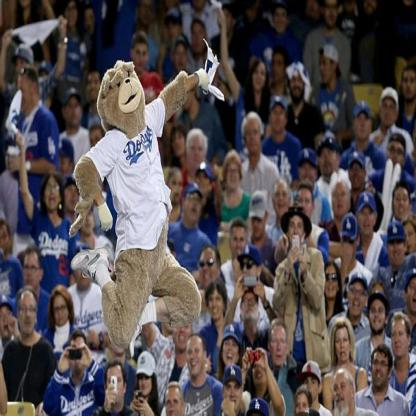face: (332, 377, 351, 416), (270, 327, 287, 366), (372, 353, 389, 390), (224, 378, 242, 412), (20, 298, 36, 336), (187, 340, 203, 377), (333, 183, 350, 217), (108, 370, 125, 404), (241, 255, 258, 289), (321, 144, 338, 177), (274, 182, 290, 217), (70, 339, 87, 371), (175, 318, 191, 352), (394, 188, 410, 222), (199, 256, 217, 286), (289, 216, 305, 248), (350, 285, 367, 315), (223, 338, 240, 368), (21, 76, 35, 112), (360, 205, 375, 238), (54, 296, 69, 328), (24, 258, 39, 290), (67, 97, 83, 127), (15, 57, 31, 87), (300, 158, 316, 188), (389, 235, 405, 265), (185, 193, 201, 223), (336, 328, 350, 362), (389, 143, 405, 172), (1, 306, 15, 339), (242, 297, 259, 324), (189, 141, 205, 169), (45, 181, 60, 210), (247, 122, 261, 153), (393, 327, 407, 358), (299, 190, 313, 221), (232, 227, 245, 260), (342, 230, 356, 260), (271, 103, 285, 133), (371, 302, 385, 332), (166, 388, 181, 416), (134, 43, 148, 72), (351, 162, 365, 191), (80, 208, 95, 235), (325, 266, 337, 299), (304, 375, 318, 403), (209, 292, 223, 320), (320, 57, 334, 85), (66, 183, 79, 213), (382, 101, 397, 127), (196, 171, 209, 201), (253, 355, 265, 387), (138, 373, 154, 397), (87, 74, 101, 101), (252, 212, 266, 239), (356, 115, 371, 140), (171, 173, 183, 204), (78, 260, 92, 286), (403, 226, 416, 254), (253, 64, 266, 92), (325, 3, 339, 28), (227, 161, 239, 190), (91, 130, 104, 156), (291, 73, 304, 99), (168, 15, 180, 43), (140, 2, 154, 26), (193, 24, 204, 53), (404, 77, 416, 103), (175, 45, 187, 71), (273, 55, 285, 81), (408, 277, 416, 315), (275, 9, 287, 34), (61, 154, 72, 179), (222, 10, 232, 35), (296, 397, 309, 416), (2, 222, 9, 254), (85, 9, 95, 31), (67, 4, 76, 27), (174, 138, 184, 158), (345, 1, 357, 17), (364, 1, 376, 16), (247, 9, 257, 23), (21, 1, 31, 8)
